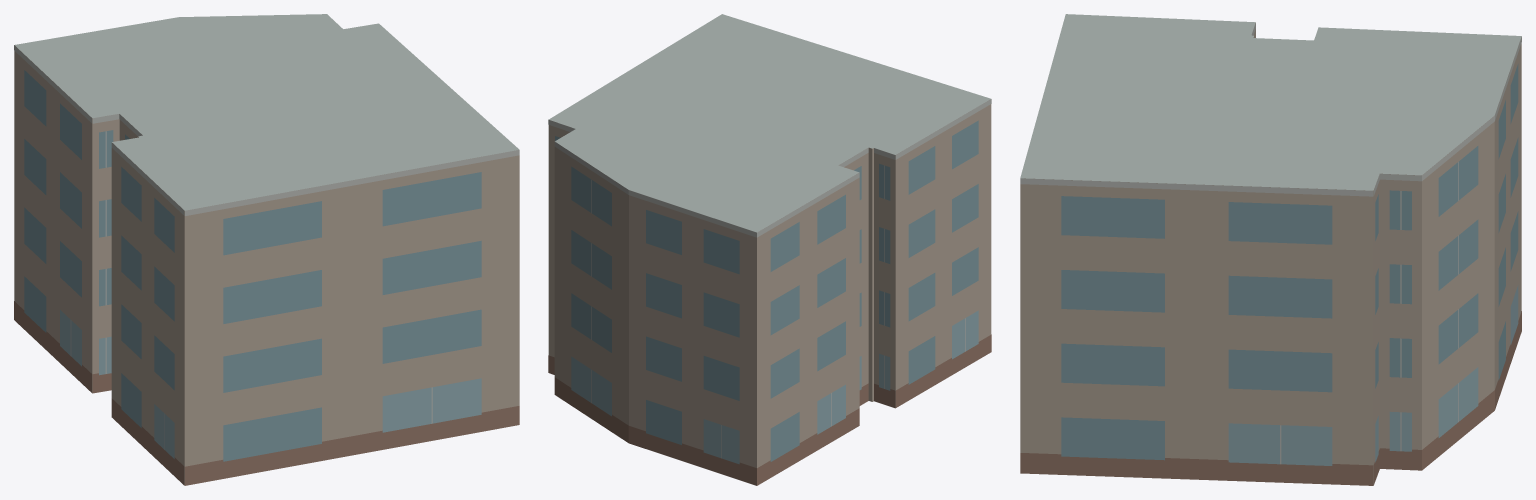
Rendered from survey-upis-32924489.glb.
3 views of the same model, side by side, from view 1: azimuth 30°, elevation 25°; view 2: azimuth 150°, elevation 25°; view 3: azimuth 270°, elevation 25° (orthographic). The views are drawn at different scales.
Visible parts, largest first — view 1: survey-upis-32924489.tmp; view 2: survey-upis-32924489.tmp; view 3: survey-upis-32924489.tmp.
Part boxes in pixels (box(x1,y1,x2,y2)): survey-upis-32924489.tmp: box(14, 14, 519, 485); survey-upis-32924489.tmp: box(548, 14, 991, 485); survey-upis-32924489.tmp: box(1020, 14, 1521, 485).
Bounding box in the file's own units: 15.69 × 12.21 × 18.82.
